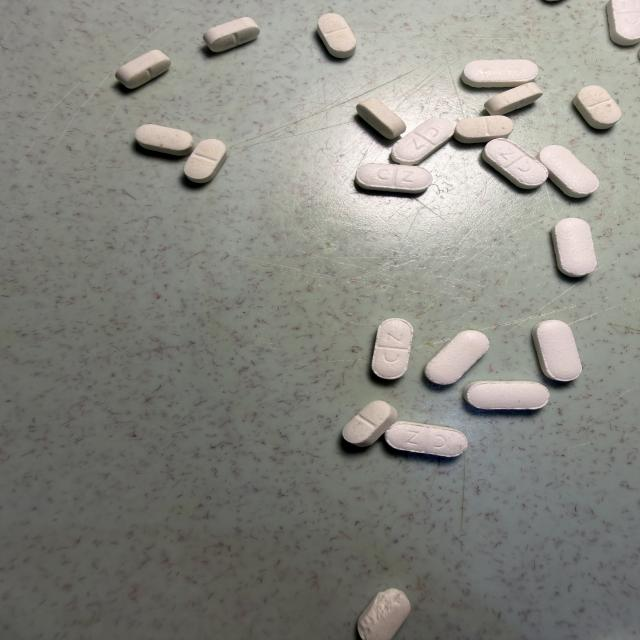pill: (425, 330, 489, 384), (482, 139, 548, 189), (538, 145, 598, 197), (532, 320, 582, 381), (391, 118, 455, 165), (385, 422, 467, 457), (552, 218, 597, 277), (358, 589, 410, 639), (343, 401, 397, 447), (372, 319, 413, 379), (463, 381, 549, 409), (356, 164, 432, 193), (573, 86, 622, 129), (116, 50, 170, 89), (462, 60, 538, 87), (356, 98, 406, 139), (204, 17, 260, 52), (484, 82, 543, 115), (185, 139, 226, 183), (136, 124, 193, 155), (318, 13, 356, 58), (454, 116, 513, 143), (607, 0, 639, 45)
